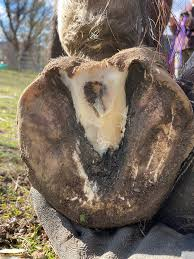horsesole: (17, 60, 194, 230)
